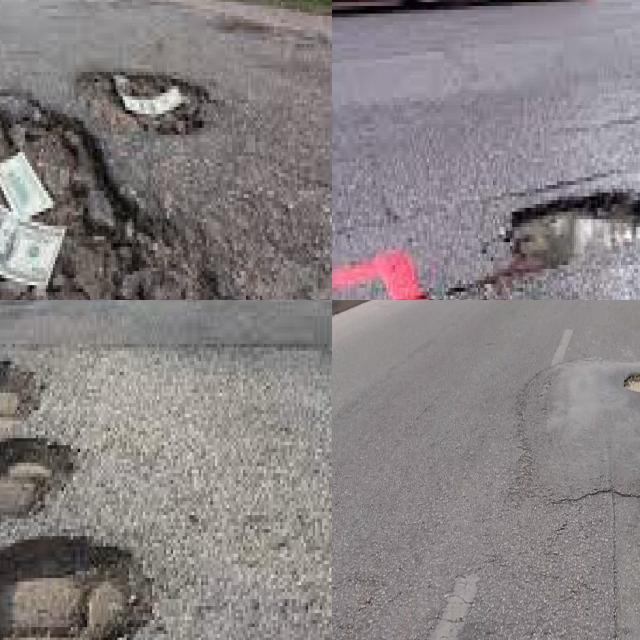Pothole: (0, 96, 200, 300), (0, 536, 155, 640), (506, 193, 640, 273), (74, 72, 209, 142), (0, 438, 82, 519), (0, 358, 47, 421), (622, 370, 640, 396)
